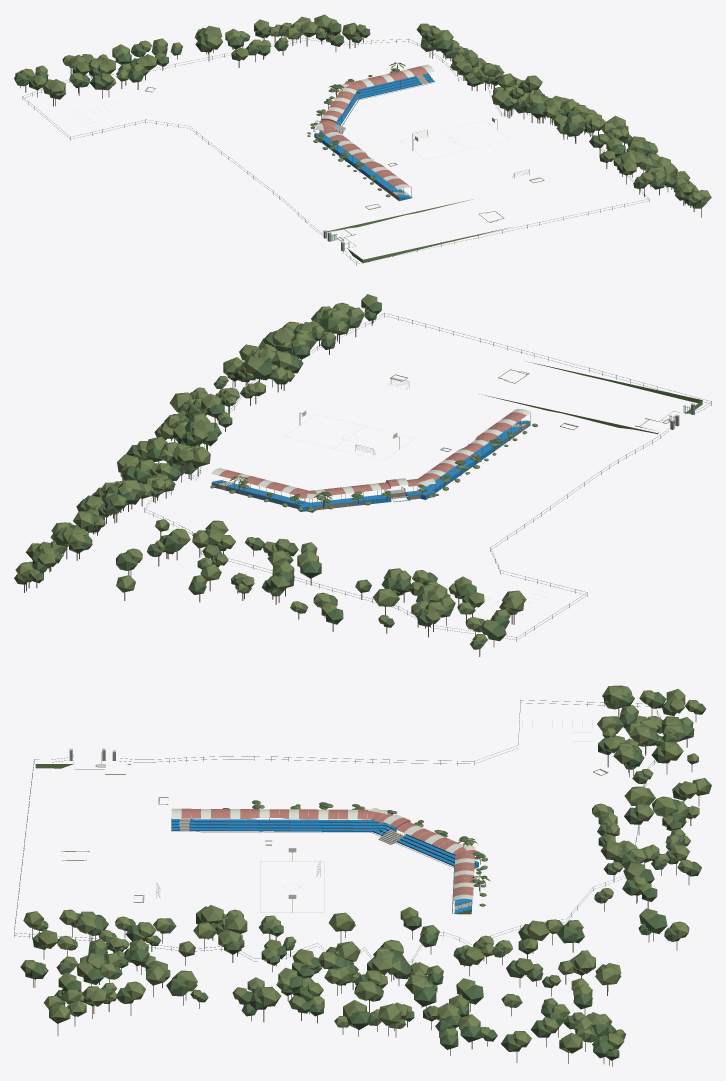
3 renders of one model, top to bottom at view 1: azimuth 30°, elevation 25°; view 2: azimuth 150°, elevation 25°; view 3: azimuth 270°, elevation 25°, orthographic. The views are drawn at different scales.
Parts seen in each view (by area): view 1: planting_mixed-trees, facility_open-striped-stand-canopy, facility_stand-tiered, facility_boundary-fence, facility_terrain-contour-join; view 2: planting_mixed-trees, facility_open-striped-stand-canopy, facility_stand-tiered, facility_terrain-contour-join, facility_boundary-fence; view 3: planting_mixed-trees, facility_open-striped-stand-canopy, facility_stand-tiered, facility_boundary-fence.
Part boxes in pixels (bbox=[...]): planting_mixed-trees: bbox=[14, 14, 711, 217]; facility_open-striped-stand-canopy: bbox=[314, 64, 434, 197]; facility_stand-tiered: bbox=[314, 73, 434, 200]; facility_boundary-fence: bbox=[22, 37, 649, 265]; facility_terrain-contour-join: bbox=[146, 87, 544, 263]; planting_mixed-trees: bbox=[14, 294, 526, 656]; facility_open-striped-stand-canopy: bbox=[211, 409, 531, 507]; facility_stand-tiered: bbox=[212, 420, 530, 512]; facility_terrain-contour-join: bbox=[211, 361, 702, 512]; facility_boundary-fence: bbox=[144, 313, 711, 641]; planting_mixed-trees: bbox=[20, 685, 711, 1066]; facility_open-striped-stand-canopy: bbox=[171, 808, 479, 901]; facility_stand-tiered: bbox=[171, 819, 478, 914]; facility_boundary-fence: bbox=[14, 700, 660, 974].
Size of the model in its own units: 152 by 32.62 by 162.
13 materials, 3 textured.
